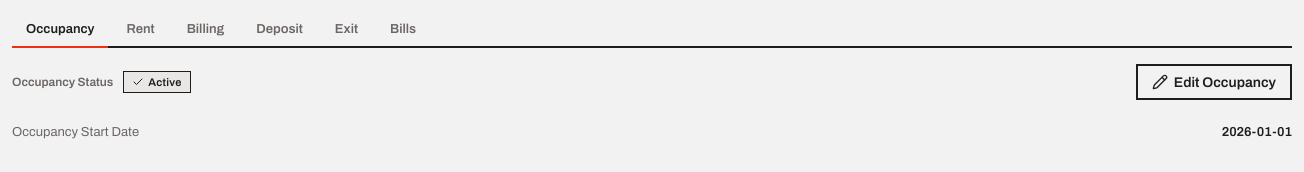
UnitOccupancyTabs — P6.3-J: Bills/Ledger tabs are opt-in, for the historical occupancy page › shows a Bills tab with this occupancy's bills when supplied
Click the tab "Bills".
click(403, 30)  # box 376,12 -> 430,48
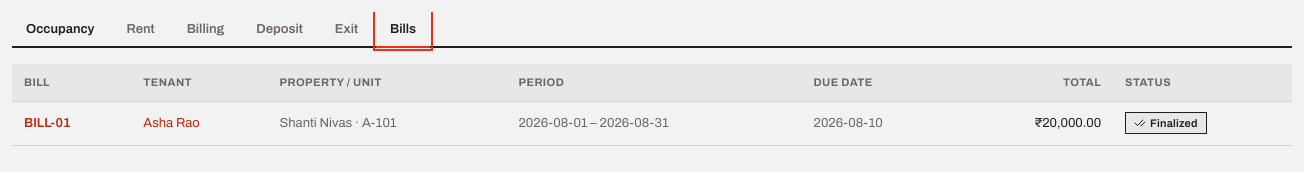
Expected: the link "BILL-01" is shown, 24,116 -> 70,130
